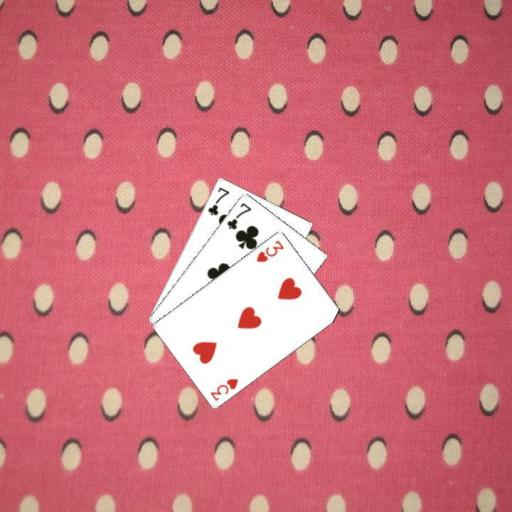3H: (253, 237, 286, 264), (207, 375, 240, 402)
7C: (224, 199, 253, 231), (205, 183, 230, 217)
